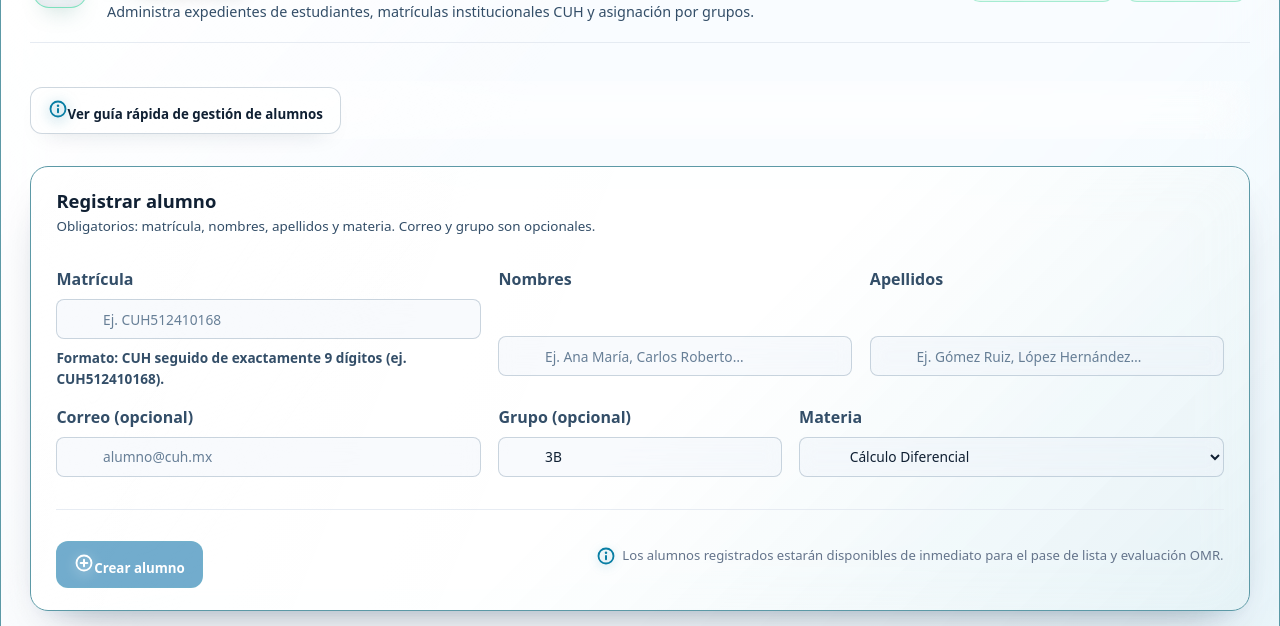
SeccionAlumnos › explica el formato requerido por el servidor y evita enviar una matrícula inválida
This screenshot has width=1280, height=626.
Type "CUH12345678" into the field labelled "Matrícula" at (269,320), box 56,300 -> 481,340
(page scrolled)
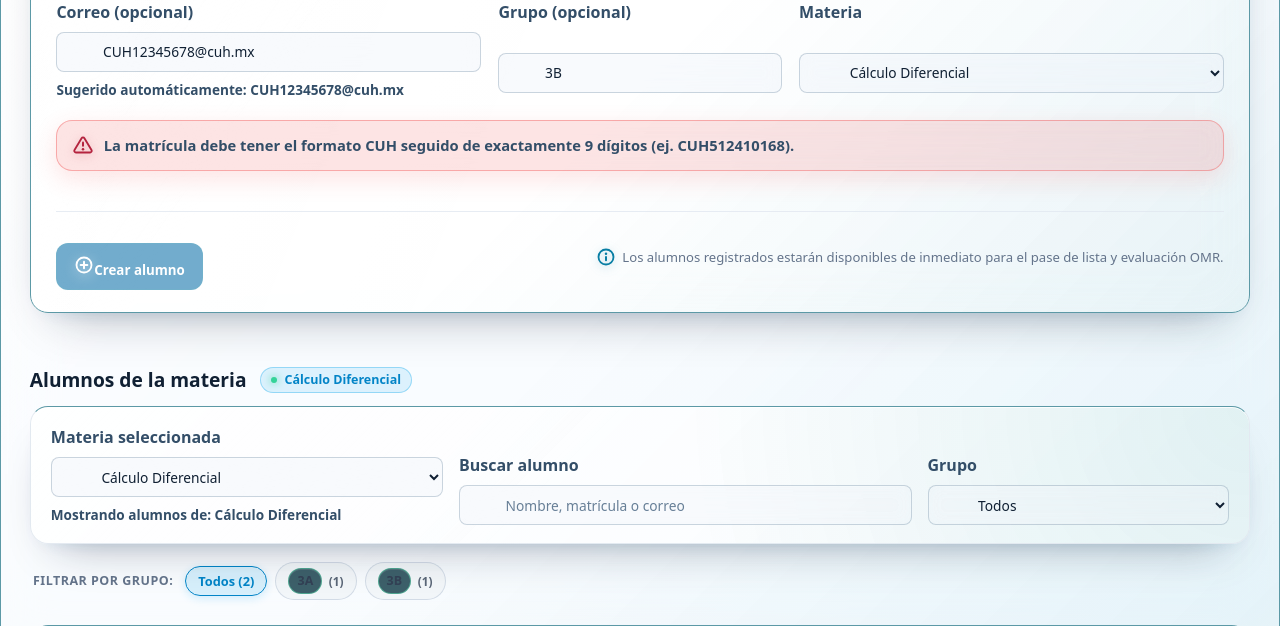
Expected: the button "Crear alumno" is disabled, 56,243 -> 203,290
Expected: the message shows "CUH seguido de exactamente 9 dígitos", 104,135 -> 794,155
